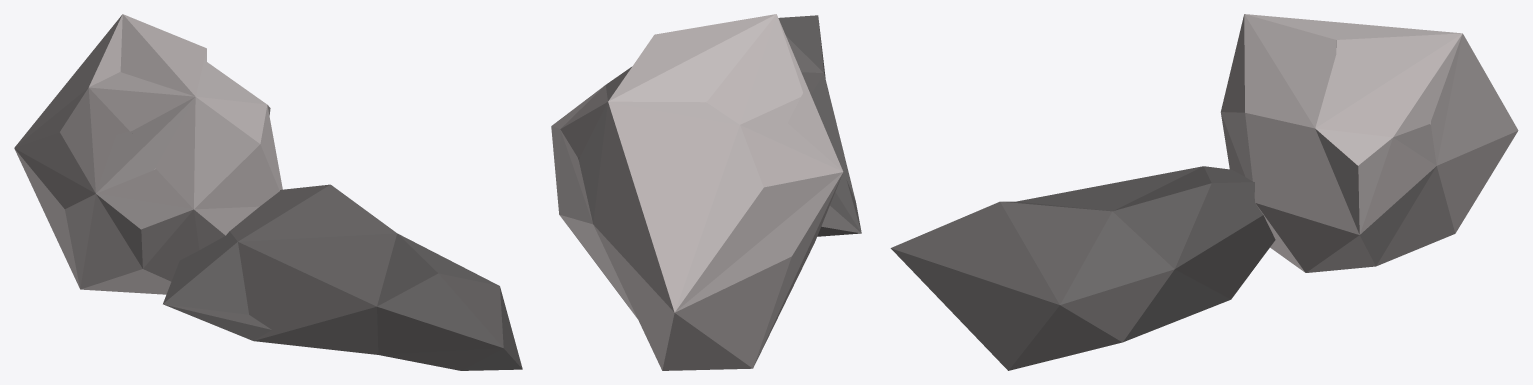
The model's file is felsenpoly1.FBX.
3 views of the same model, side by side, from view 1: azimuth 30°, elevation 25°; view 2: azimuth 150°, elevation 25°; view 3: azimuth 270°, elevation 25° (orthographic). The views are drawn at different scales.
Parts seen in each view (by area): view 1: GeoSphere001, GeoSphere002; view 2: GeoSphere001, GeoSphere002; view 3: GeoSphere001, GeoSphere002.
Boxes of the visible parts, left/top/right/bottom form: GeoSphere001: left=14, top=14, right=282, bottom=294; GeoSphere002: left=163, top=184, right=522, bottom=370; GeoSphere001: left=551, top=14, right=843, bottom=370; GeoSphere002: left=778, top=15, right=861, bottom=236; GeoSphere001: left=1220, top=14, right=1518, bottom=272; GeoSphere002: left=890, top=166, right=1275, bottom=370.
Bounding box in the file's own units: 51.52 × 40.97 × 92.66.
Materials: 2 (2 with a texture image).
